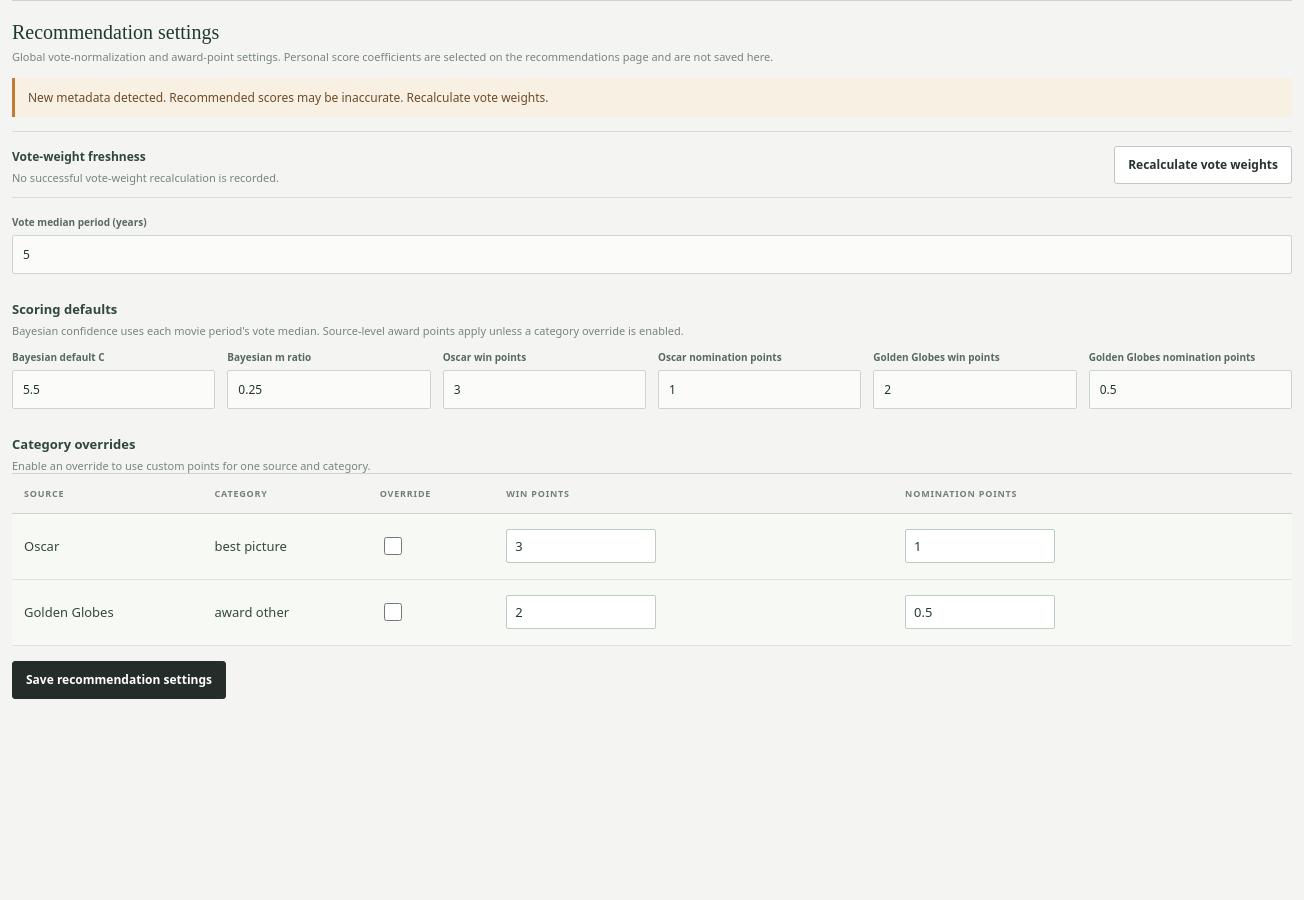
Test: RecommendationSettingsView › keeps the dirty warning visible after a recalculation timeout
Expected: the heading "Recommendation settings" is shown, [12,21,219,43]
Click the button "Recalculate vote weights" at (1203, 165), box [1114,146,1292,184]
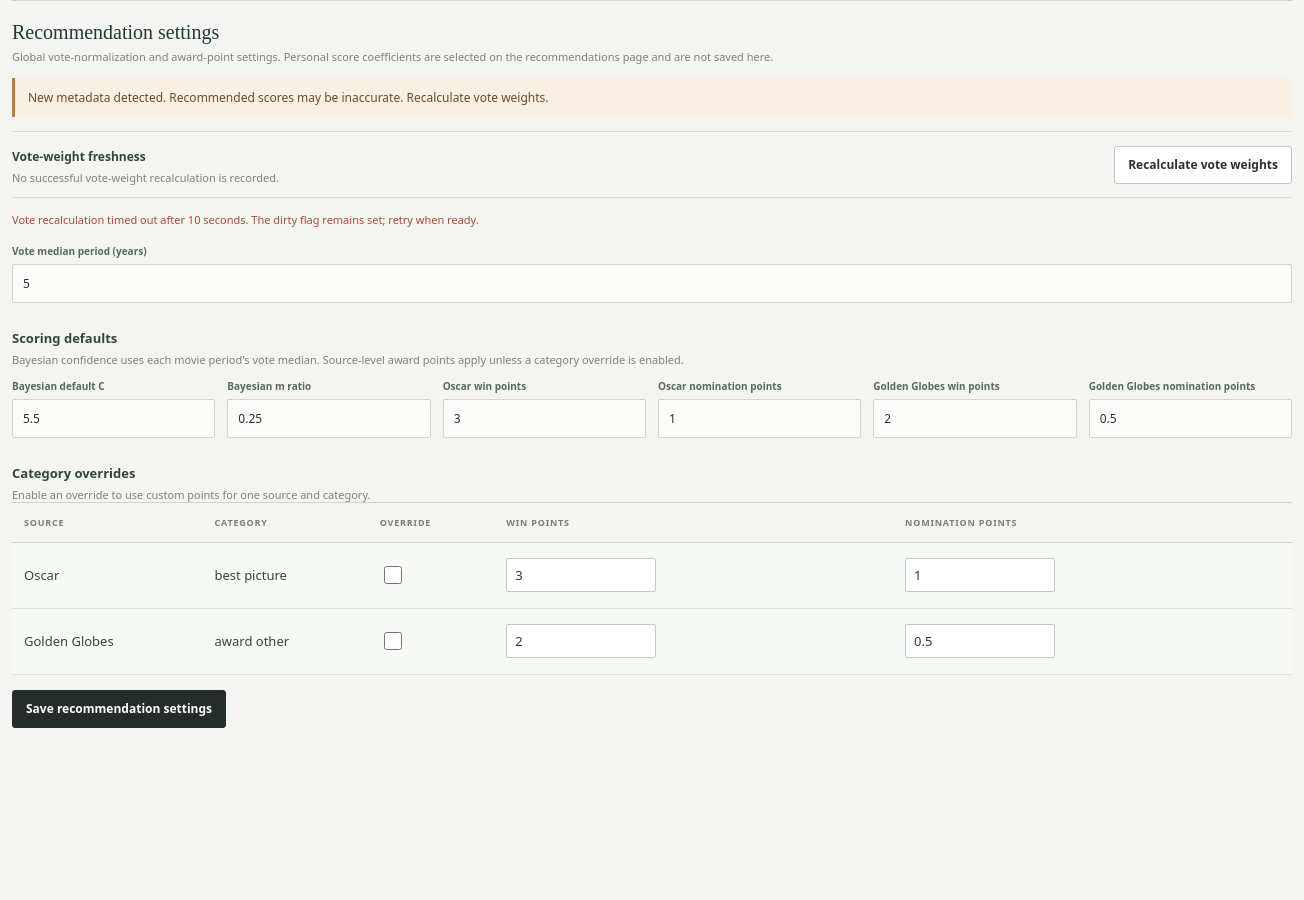
Expected: the text "New metadata detected. Recommended scores may be inaccurate. Recalculate vote weights." is shown, [28,89,549,106]
Now the text "Vote recalculation timed out after 10 seconds" is shown, box [12,212,479,227]
